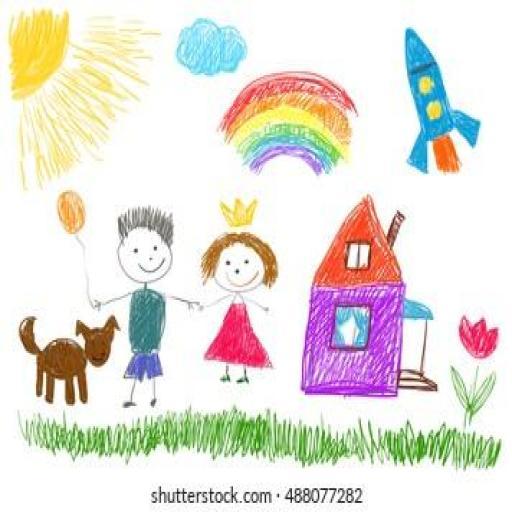person: (94, 203, 196, 409), (194, 231, 282, 386)
